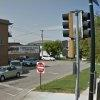traffic lights: (80, 7, 93, 39), (61, 8, 73, 40)
